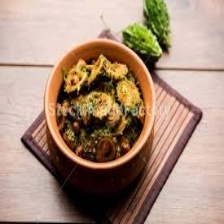sabzi: (54, 53, 146, 162)
